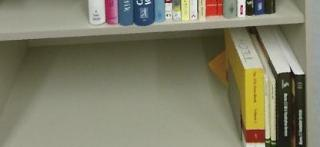book-spine: (244, 69, 265, 147), (278, 72, 292, 147), (294, 74, 306, 147), (264, 78, 271, 147), (271, 81, 276, 147)
